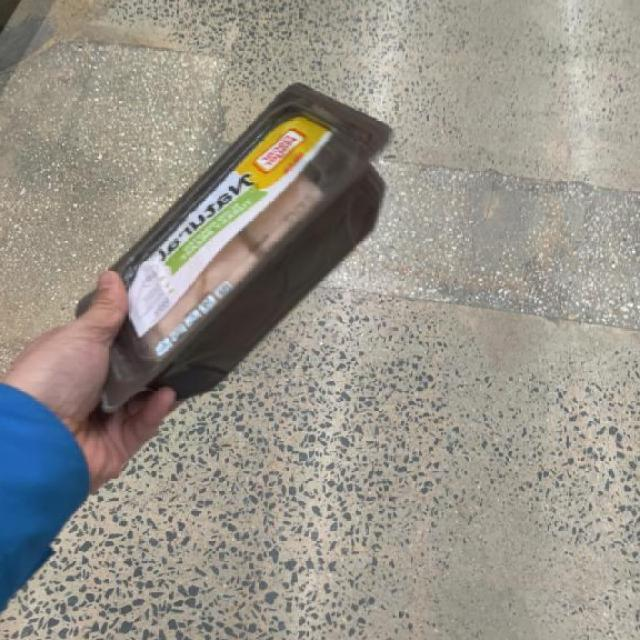Meat: (51, 62, 420, 434)
